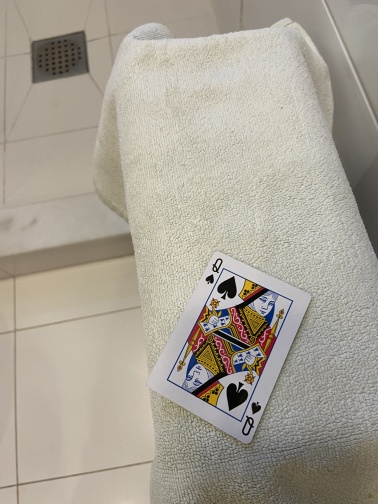queen: (146, 249, 313, 446)
